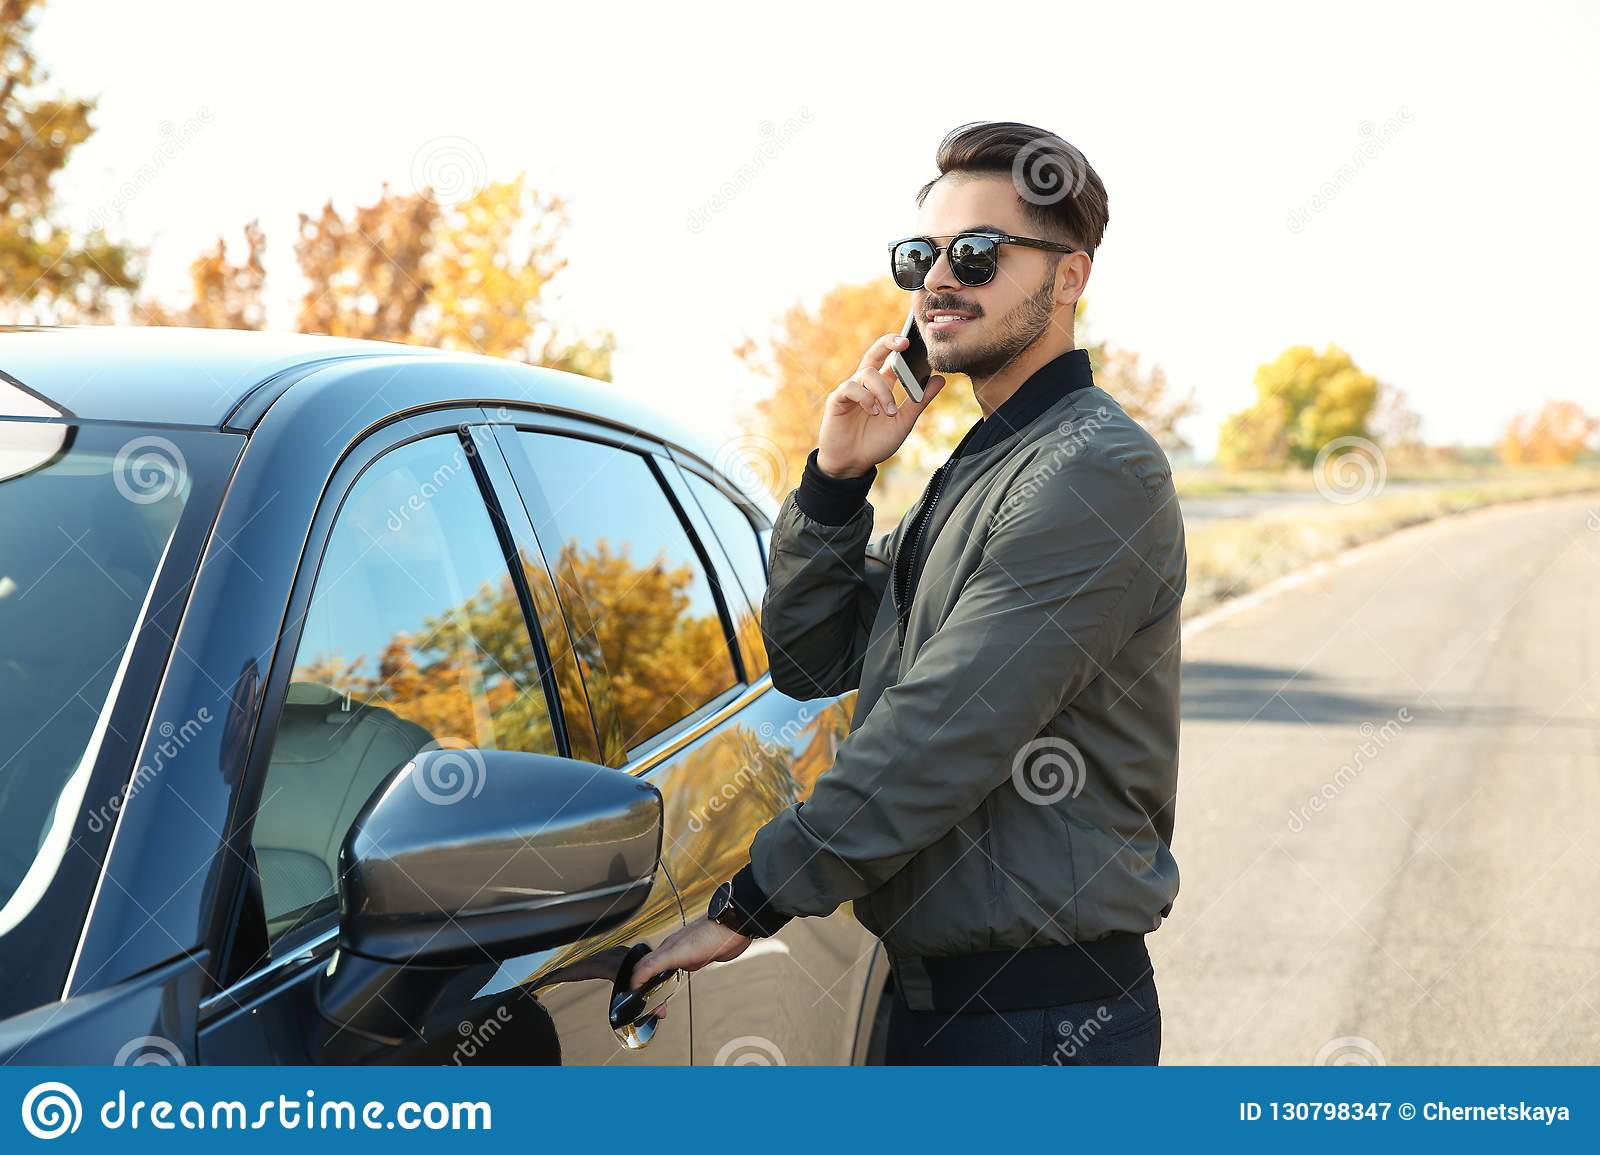phone: (892, 301, 935, 409)
talk: (812, 219, 1017, 468)
